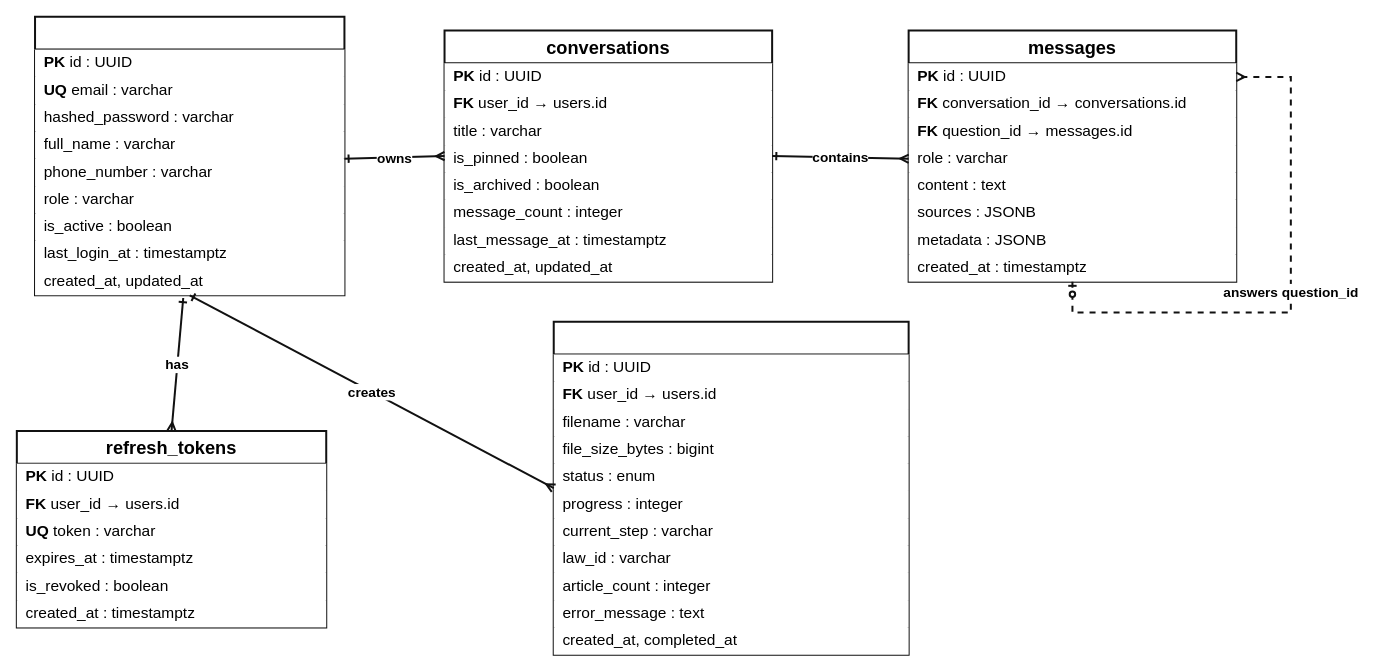
The diagram is 1374 pixels wide and 672 high, and some of its shapes have lost their labels. Each missing label, with the box of its shape:
document_tasks: (552, 320, 909, 655)
users: (34, 15, 345, 296)
